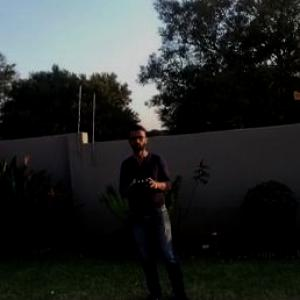follow: (114, 121, 199, 299)
